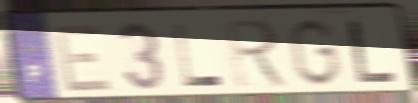3: (115, 19, 167, 94)
E: (51, 22, 115, 95)
G: (285, 16, 343, 88)
L: (171, 22, 227, 89), (344, 18, 400, 85)
R: (222, 17, 292, 90)
